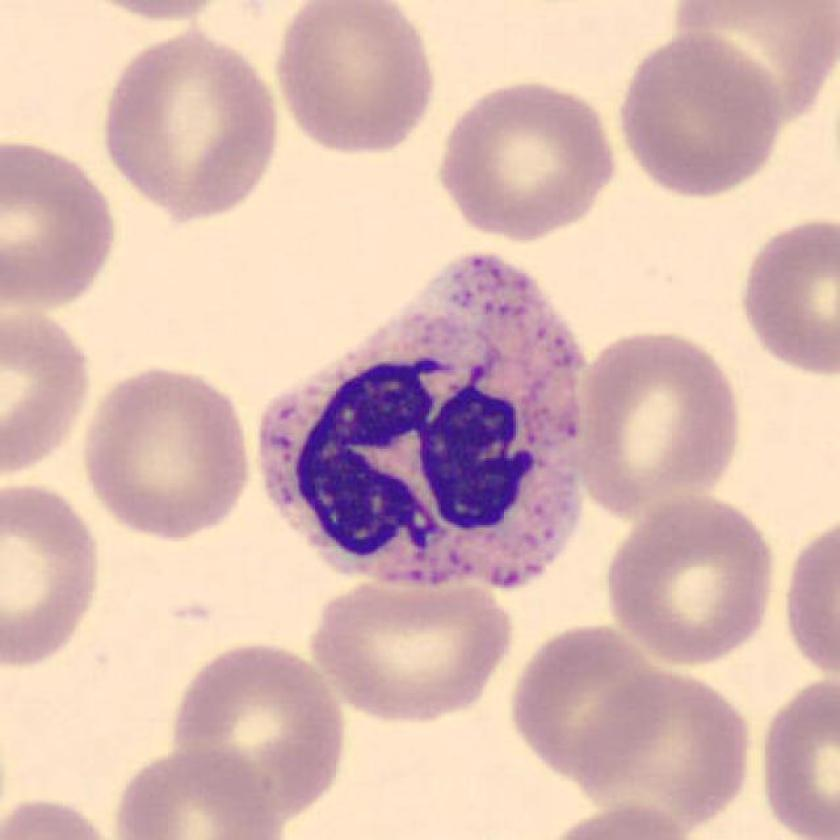neutrophil: (260, 258, 591, 593)
